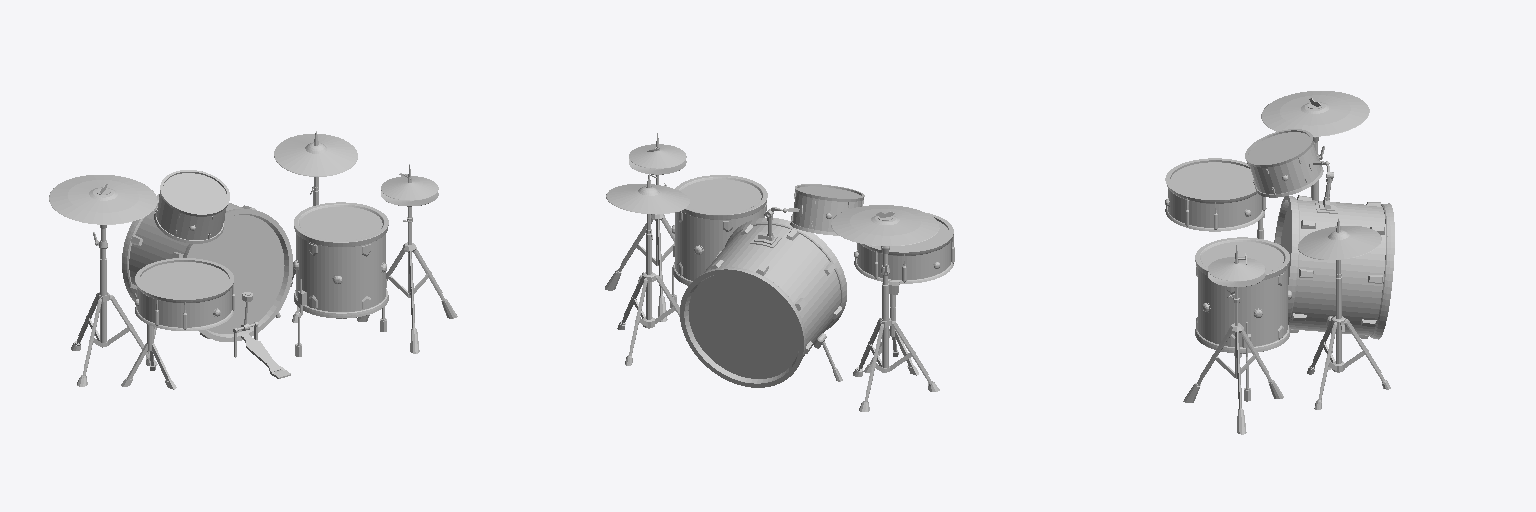
The model's file is schlagzeug.obj.
3 views of the same model, side by side, from view 1: azimuth 30°, elevation 25°; view 2: azimuth 150°, elevation 25°; view 3: azimuth 270°, elevation 25° (orthographic).
Parts seen in each view (by area): view 1: BigDrum_Cylinder, MidDrum_Cylinder.001, SmallDrum_Cylinder.002, SmolDrum_Cylinder.003, RideCymbal_Cylinder.005, CrashSymbal_Cylinder.007, Hi-HatSymbal_Cylinder.006, Hi-HatSymbalStandFoot_Cylinder.005_Plate_Plate_Plate.002, RideSymbalStandFoot_Cylinder.005_Plate_Plate_Plate, RideCymbalStandTop_Cylinder.005_Plate_Plate, SmallDrumStand1_Cylinder.002_Plate_Plate, Pedal_Cube.004; view 2: BigDrum_Cylinder, MidDrum_Cylinder.001, RideCymbal_Cylinder.005, SmallDrum_Cylinder.002, SmolDrum_Cylinder.003, CrashSymbal_Cylinder.007, Hi-HatSymbal_Cylinder.006, RideSymbalStandFoot_Cylinder.005_Plate_Plate_Plate, Hi-HatSymbalStandFoot_Cylinder.005_Plate_Plate_Plate.002, CrashSymbalStandFoot_Cylinder.005_Plate_Plate_Plate.001, RideCymbalStandTop_Cylinder.005_Plate_Plate, CrashSymbalStandTop_Cylinder.004 (+1 smaller); view 3: BigDrum_Cylinder, MidDrum_Cylinder.001, SmallDrum_Cylinder.002, SmolDrum_Cylinder.003, RideCymbal_Cylinder.005, CrashSymbal_Cylinder.007, Hi-HatSymbalStandFoot_Cylinder.005_Plate_Plate_Plate.002, Hi-HatSymbal_Cylinder.006, CrashSymbalStandFoot_Cylinder.005_Plate_Plate_Plate.001, BigDrumDetail_Cylinder.008, CrashSymbalStandTop_Cylinder.004.
Part boxes in pixels (x1,y1,x2,y2): BigDrum_Cylinder: (122, 194, 292, 341); MidDrum_Cylinder.001: (294, 202, 388, 318); SmallDrum_Cylinder.002: (135, 258, 233, 330); SmolDrum_Cylinder.003: (154, 170, 229, 243); RideCymbal_Cylinder.005: (49, 175, 157, 224); CrashSymbal_Cylinder.007: (274, 134, 357, 176); Hi-HatSymbal_Cylinder.006: (381, 176, 438, 206); Hi-HatSymbalStandFoot_Cylinder.005_Plate_Plate_Plate.002: (357, 248, 457, 353); RideSymbalStandFoot_Cylinder.005_Plate_Plate_Plate: (71, 293, 157, 386); RideCymbalStandTop_Cylinder.005_Plate_Plate: (99, 225, 109, 347); SmallDrumStand1_Cylinder.002_Plate_Plate: (121, 343, 176, 389); Pedal_Cube.004: (241, 333, 284, 375); BigDrum_Cylinder: (680, 218, 846, 387); MidDrum_Cylinder.001: (673, 175, 767, 285); RideCymbal_Cylinder.005: (831, 205, 939, 245); SmallDrum_Cylinder.002: (854, 213, 953, 283); SmolDrum_Cylinder.003: (790, 184, 864, 235); CrashSymbal_Cylinder.007: (606, 184, 689, 214); Hi-HatSymbal_Cylinder.006: (629, 144, 686, 174); RideSymbalStandFoot_Cylinder.005_Plate_Plate_Plate: (853, 318, 939, 411); Hi-HatSymbalStandFoot_Cylinder.005_Plate_Plate_Plate.002: (605, 216, 674, 321); CrashSymbalStandFoot_Cylinder.005_Plate_Plate_Plate.001: (617, 272, 679, 365); RideCymbalStandTop_Cylinder.005_Plate_Plate: (880, 246, 891, 372); CrashSymbalStandTop_Cylinder.004: (642, 174, 655, 328); BigDrum_Cylinder: (1274, 196, 1394, 339); MidDrum_Cylinder.001: (1195, 237, 1289, 353); SmallDrum_Cylinder.002: (1165, 158, 1264, 231); SmolDrum_Cylinder.003: (1245, 129, 1323, 197); RideCymbal_Cylinder.005: (1261, 91, 1369, 136); CrashSymbal_Cylinder.007: (1298, 226, 1381, 259); Hi-HatSymbalStandFoot_Cylinder.005_Plate_Plate_Plate.002: (1183, 329, 1283, 434); Hi-HatSymbal_Cylinder.006: (1208, 257, 1265, 286); CrashSymbalStandFoot_Cylinder.005_Plate_Plate_Plate.001: (1307, 317, 1390, 409); BigDrumDetail_Cylinder.008: (1290, 195, 1384, 338); CrashSymbalStandTop_Cylinder.004: (1332, 218, 1345, 372).
Bounding box in the file's own units: 6.35 × 3 × 3.47.